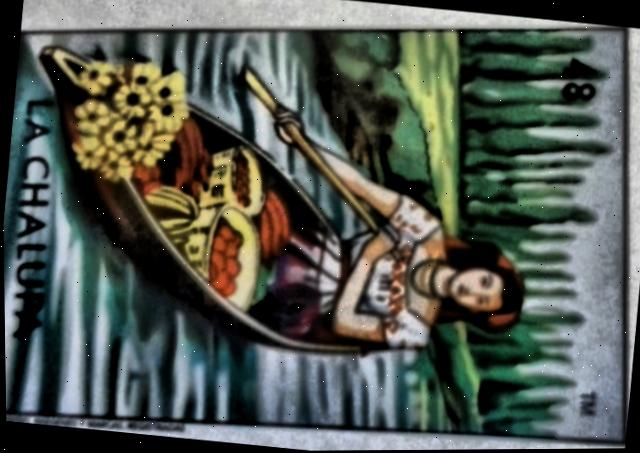El Chalupa: (3, 30, 626, 445)
